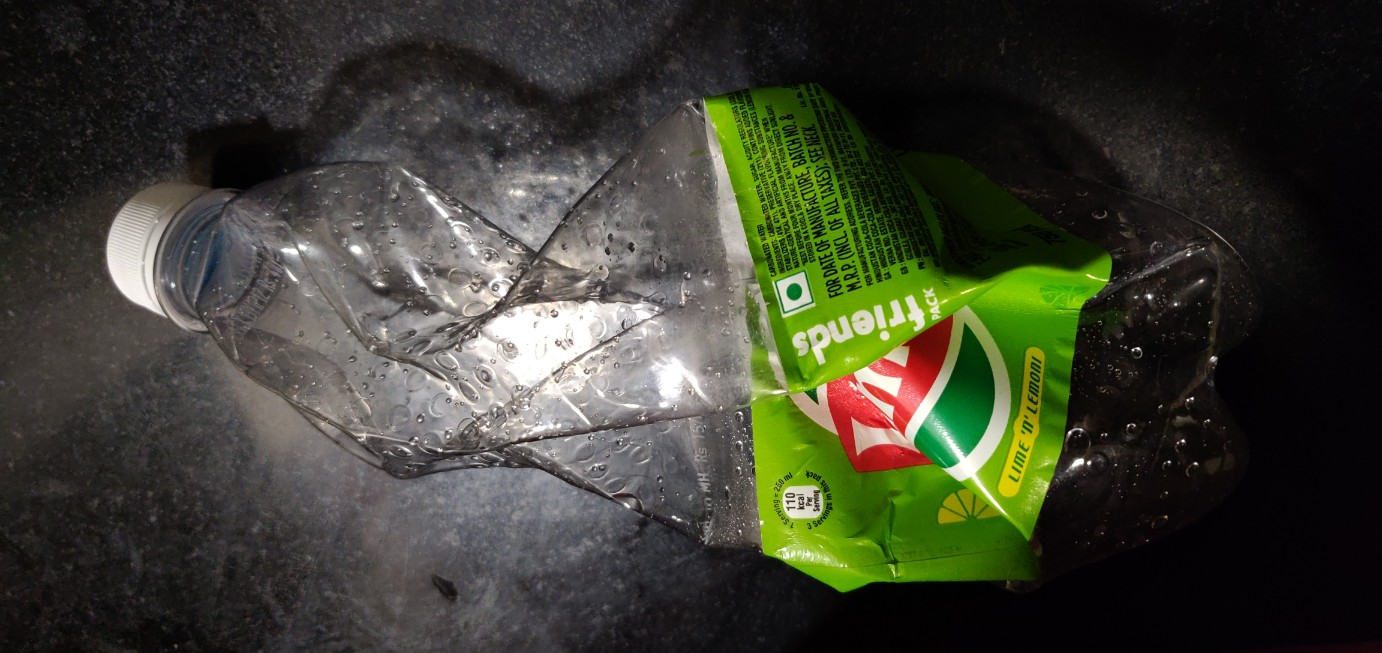Electronics: (65, 27, 1312, 613)
